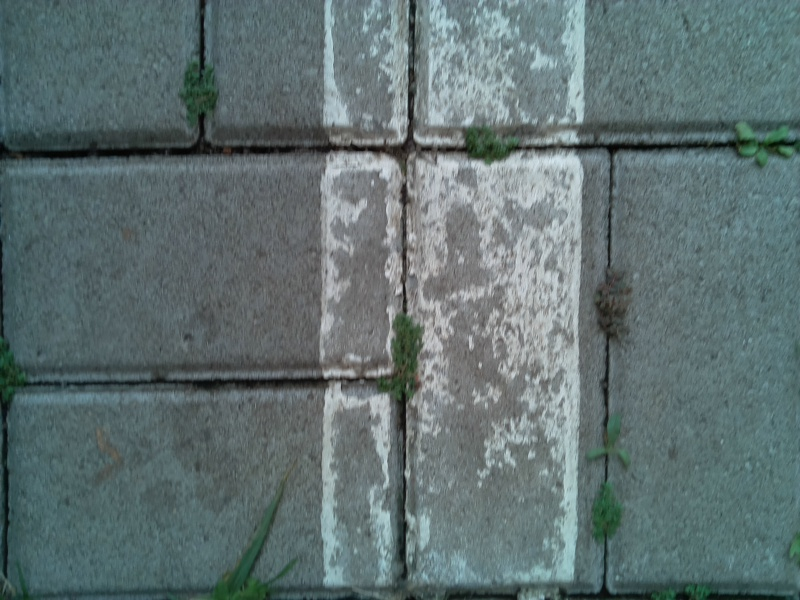Weed: (203, 478, 287, 600), (366, 311, 426, 407), (726, 114, 800, 172), (173, 53, 226, 130), (593, 259, 635, 350), (451, 120, 524, 168), (581, 409, 634, 472), (1, 320, 31, 426), (586, 477, 629, 548)
